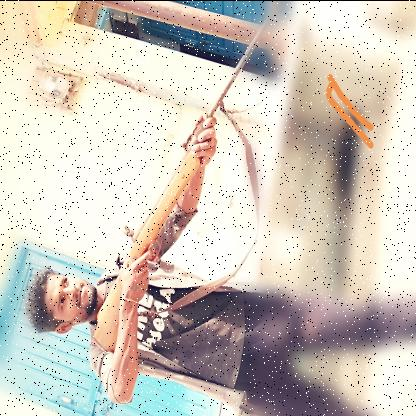rifle: (90, 0, 283, 359)
